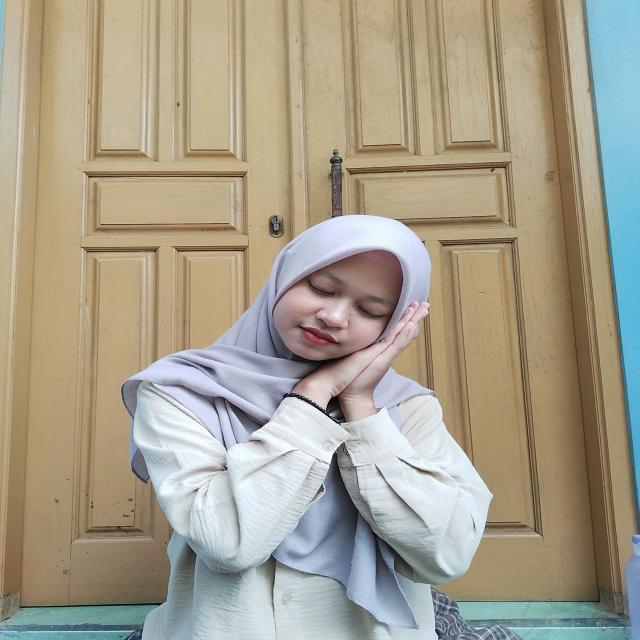tidur: (272, 298, 436, 422)
